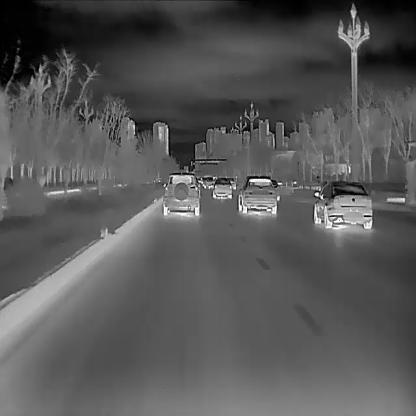car: (313, 181, 372, 230), (162, 172, 199, 216), (238, 174, 277, 213), (212, 177, 231, 199), (204, 176, 213, 187), (229, 177, 236, 189)
